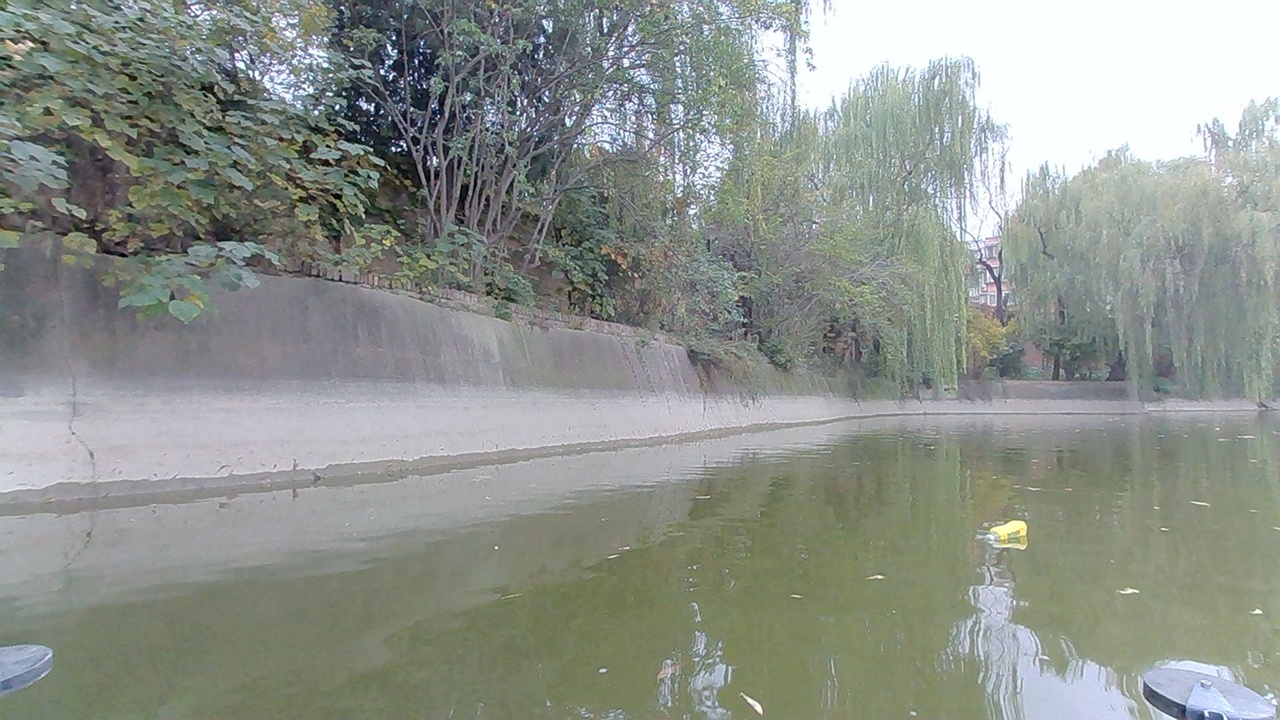bottle: (994, 522, 1028, 545)
